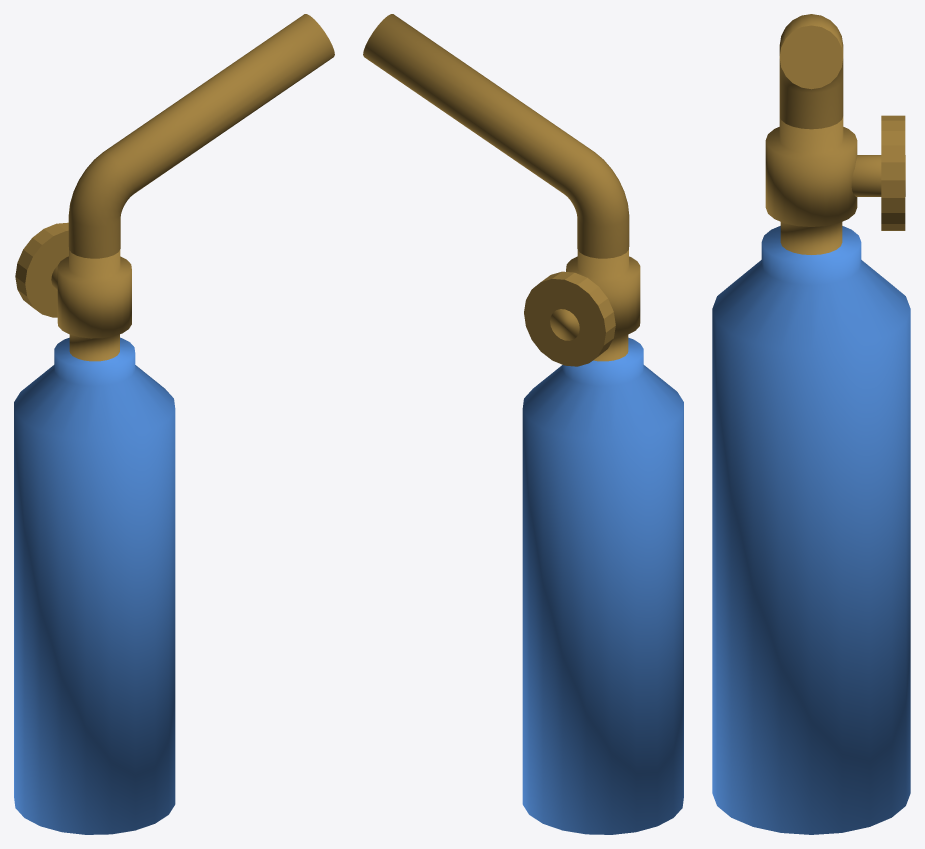
File: potezny_palnik.fbx
3 views of the same model, side by side, from view 1: azimuth 30°, elevation 25°; view 2: azimuth 150°, elevation 25°; view 3: azimuth 270°, elevation 25° (orthographic). The views are drawn at different scales.
Parts seen in each view (by area): view 1: Walec, Walec.001; view 2: Walec, Walec.001; view 3: Walec, Walec.001.
Boxes of the visible parts, bbox=[...] form: Walec: bbox=[14, 14, 334, 834]; Walec.001: bbox=[15, 222, 68, 317]; Walec: bbox=[363, 14, 683, 834]; Walec.001: bbox=[524, 271, 615, 366]; Walec: bbox=[712, 14, 910, 834]; Walec.001: bbox=[851, 115, 905, 230].
Size of the model in its own units: 538 by 1240 by 249.
